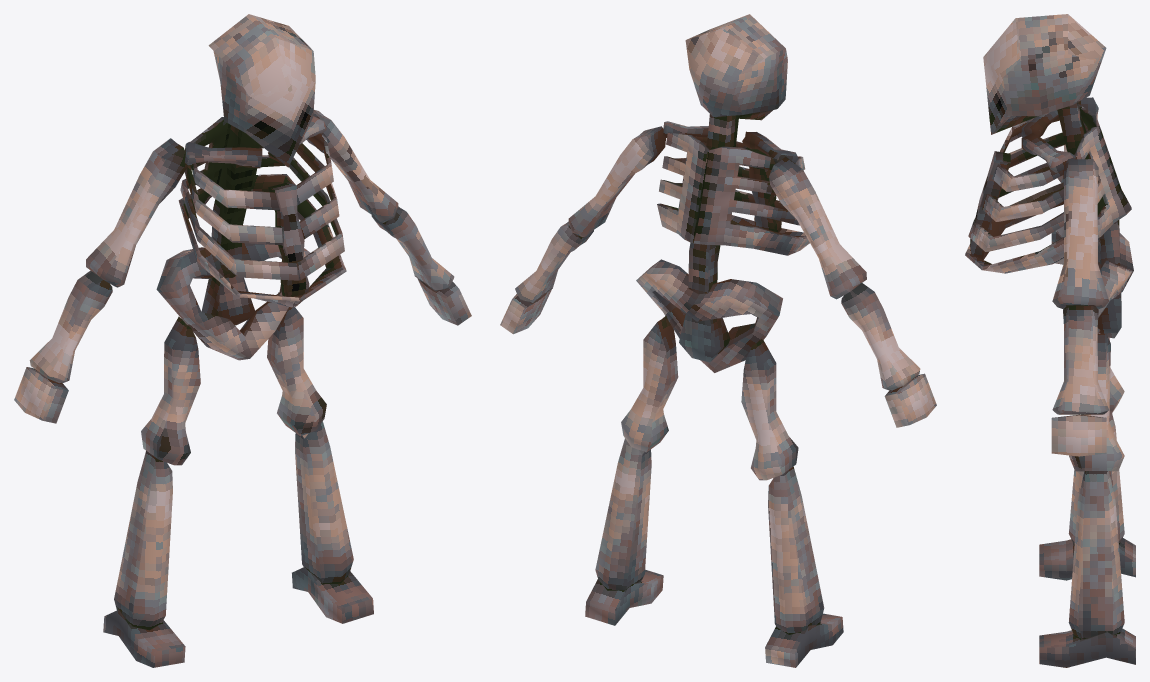
File: psx_skeleton.glb
3 renders of one model, left to right at view 1: azimuth 30°, elevation 25°; view 2: azimuth 150°, elevation 25°; view 3: azimuth 270°, elevation 25°, orthographic. The views are drawn at different scales.
Visible parts, largest first — view 1: Cube; view 2: Cube; view 3: Cube.
Boxes of the visible parts, left/top/right/bottom form: Cube: left=14, top=14, right=471, bottom=667; Cube: left=500, top=14, right=936, bottom=667; Cube: left=965, top=14, right=1135, bottom=667.
Size of the model in its own units: 3.34 by 4.54 by 1.17.
1 material, 1 textured.
